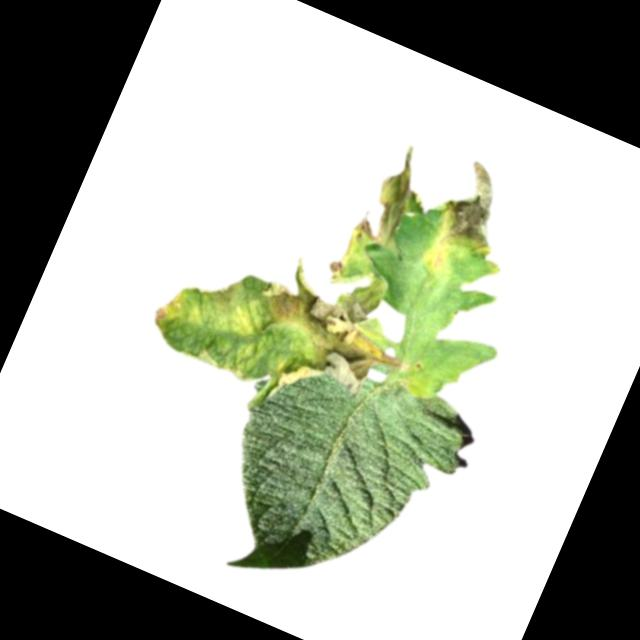Late_blight: (243, 238, 423, 401), (348, 136, 444, 262), (427, 156, 526, 268), (205, 269, 253, 323), (323, 237, 365, 289), (149, 285, 190, 337)
healthy: (183, 327, 478, 633)
